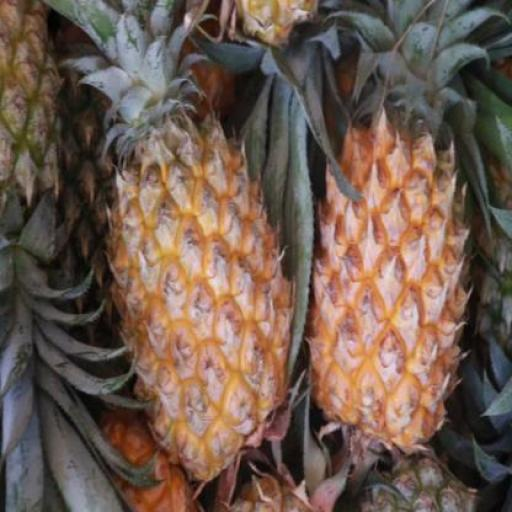Pineapple - v8 v1: (102, 119, 294, 480), (308, 122, 462, 458)
